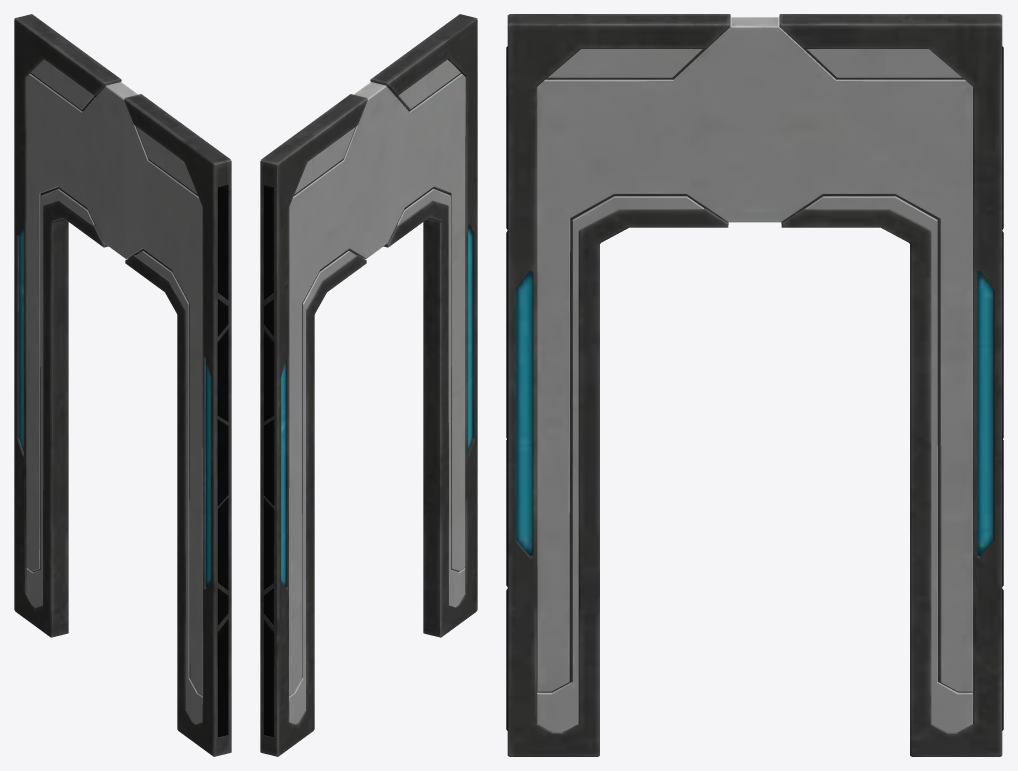
Rendered from SM_WallGate_Ancient_b7068e.glb.
3 views of the same model, side by side, from view 1: azimuth 30°, elevation 25°; view 2: azimuth 150°, elevation 25°; view 3: azimuth 270°, elevation 25° (orthographic). The views are drawn at different scales.
Bounding box in the file's own units: 0.2108 × 6.54 × 4.02.
Materials: 1 (1 with a texture image).
